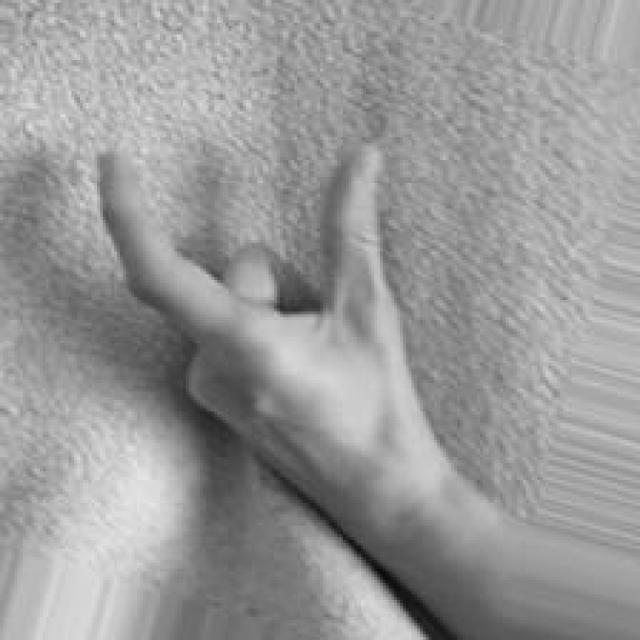U: (82, 131, 471, 486)
